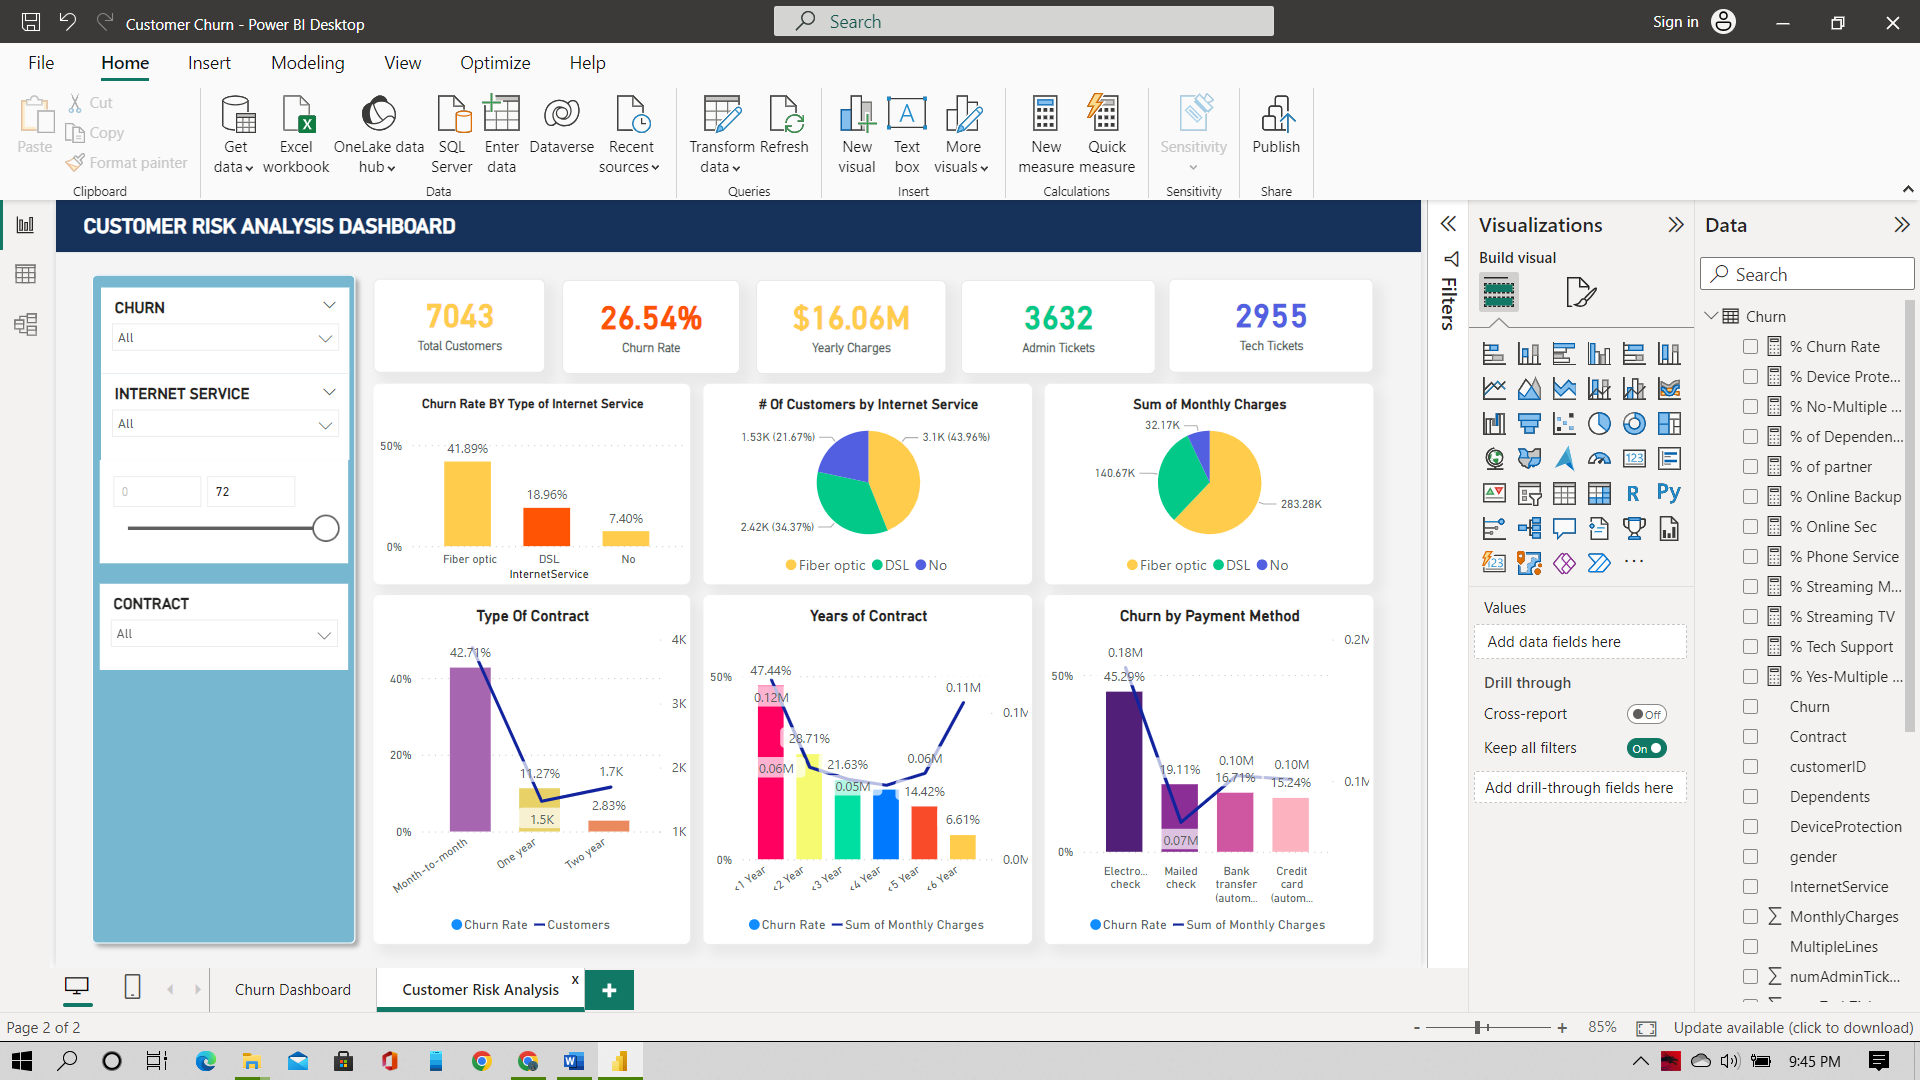

The page's visual inventory and layout, read from the dashboard file:
{"tool":"powerbi","page":{"name":"Customer Risk Analysis","canvas":[1280,720],"ordinal":1},"visuals":[{"type":"shape","box":[0,0,1280,49],"z":0},{"type":"textbox","box":[21,8,438,33],"z":1000},{"type":"shape","box":[25,61,265,645],"z":2000},{"type":"slicer","fields":{"Values":["Churn.Churn"]},"box":[42,82,233,81],"z":3000},{"type":"slicer","fields":{"Values":["Churn.InternetService"]},"box":[42,163,233,81],"z":4000},{"type":"slicer","fields":{"Values":["Churn.tenure"]},"box":[41,244,233,97],"z":5000},{"type":"slicer","fields":{"Values":["Churn.Contract"]},"box":[41,360,233,81],"z":6000},{"type":"card","fields":{"Values":["CountNonNull(01 Churn-Dataset.customerID)"]},"box":[298,74,161,88],"z":7000},{"type":"card","fields":{"Values":["Churn.% Churn Rate"]},"box":[474,75,166,88],"z":8000},{"type":"card","fields":{"Values":["Sum(Churn.TotalCharges)"]},"box":[656,75,178,88],"z":9000},{"type":"card","fields":{"Values":["Sum(Churn.numAdminTickets)"]},"box":[848,75,182,88],"z":10000},{"type":"card","fields":{"Values":["Sum(Churn.numTechTickets)"]},"box":[1043,74,192,88],"z":11000},{"type":"columnChart","title":"Churn Rate BY Type of Internet Service","fields":{"Y":["Churn.% Churn Rate"],"Category":["Churn.InternetService"]},"box":[298,172,297,188],"z":12000},{"type":"pieChart","title":"# Of Customers by Internet Service","fields":{"Y":["CountNonNull(Churn.customerID)"],"Category":["Churn.InternetService"]},"box":[607,172,308,188],"z":13000},{"type":"pieChart","title":"Sum of Monthly Charges","fields":{"Category":["Churn.InternetService"],"Y":["Sum(Churn.MonthlyCharges)"]},"box":[927,172,308,188],"z":14000},{"type":"lineStackedColumnComboChart","title":"Type Of Contract","fields":{"Y2":["CountNonNull(Churn.customerID)"],"Y":["Churn.% Churn Rate"],"Category":["Churn.Contract"]},"box":[298,370,297,327],"z":15000},{"type":"lineStackedColumnComboChart","title":"Years of Contract","fields":{"Y":["Churn.% Churn Rate"],"Y2":["Sum(Churn.MonthlyCharges)"],"Category":["Churn.Tenure(in years)"]},"box":[607,370,308,327],"z":16000},{"type":"lineStackedColumnComboChart","title":"Churn by Payment Method","fields":{"Y":["Churn.% Churn Rate"],"Y2":["Sum(Churn.MonthlyCharges)"],"Category":["Churn.PaymentMethod"]},"box":[927,370,308,327],"z":17000}]}

Visuals, with their boxes on the page's 1280x720 design canvas (x1, y1, x2, y2). These are canvas units, not pixel positions in the 1920x1080 screenshot, which may show the page scaled, cropped or inside an application window:
shape: box=[0, 0, 1280, 49]
textbox: box=[21, 8, 459, 41]
shape: box=[25, 61, 290, 706]
slicer - Churn.Churn: box=[42, 82, 275, 163]
slicer - Churn.InternetService: box=[42, 163, 275, 244]
slicer - Churn.tenure: box=[41, 244, 274, 341]
slicer - Churn.Contract: box=[41, 360, 274, 441]
card - CountNonNull(01 Churn-Dataset.customerID): box=[298, 74, 459, 162]
card - Churn.% Churn Rate: box=[474, 75, 640, 163]
card - Sum(Churn.TotalCharges): box=[656, 75, 834, 163]
card - Sum(Churn.numAdminTickets): box=[848, 75, 1030, 163]
card - Sum(Churn.numTechTickets): box=[1043, 74, 1235, 162]
"Churn Rate BY Type of Internet Service" columnChart: box=[298, 172, 595, 360]
"# Of Customers by Internet Service" pieChart: box=[607, 172, 915, 360]
"Sum of Monthly Charges" pieChart: box=[927, 172, 1235, 360]
"Type Of Contract" lineStackedColumnComboChart: box=[298, 370, 595, 697]
"Years of Contract" lineStackedColumnComboChart: box=[607, 370, 915, 697]
"Churn by Payment Method" lineStackedColumnComboChart: box=[927, 370, 1235, 697]
